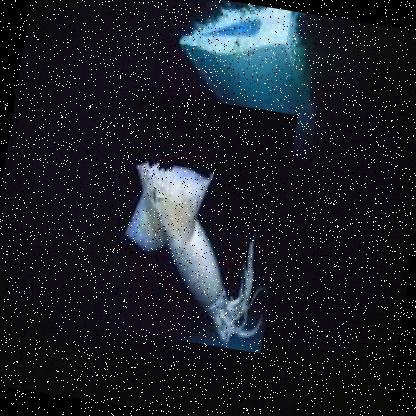colossal_squid: (99, 89, 298, 354)
